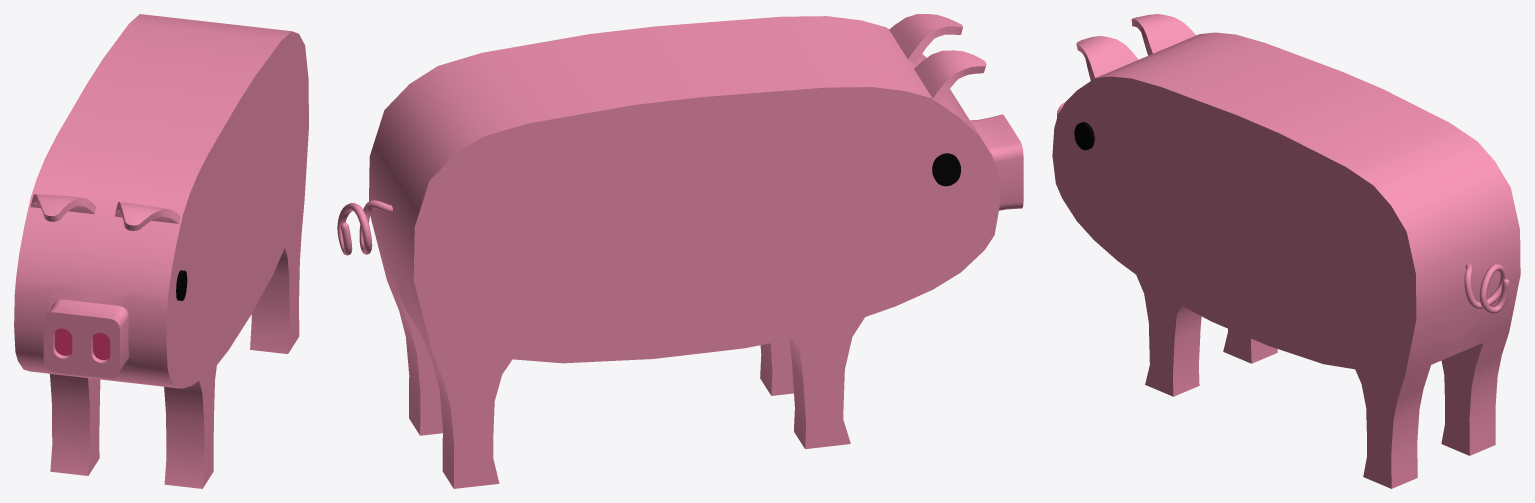
File: pig.glb
The picture shows the model from 3 angles, left to right: view 1: azimuth 30°, elevation 25°; view 2: azimuth 150°, elevation 25°; view 3: azimuth 270°, elevation 25°; orthographic projection. The views are drawn at different scales.
Parts seen in each view (by area): view 1: Plane.121, Cube.6232; view 2: Plane.121, Cube.6232, Plane.122, Circle.1896; view 3: Plane.121, Cube.6232, Plane.122.
Part boxes in pixels (box(x1,y1,x2,y2)): Plane.121: box(14, 14, 308, 488); Cube.6232: box(30, 194, 180, 230); Plane.121: box(369, 16, 1023, 488); Cube.6232: box(889, 14, 986, 103); Plane.122: box(337, 200, 392, 255); Circle.1896: box(932, 153, 960, 186); Plane.121: box(1052, 32, 1520, 488); Cube.6232: box(1076, 14, 1195, 80); Plane.122: box(1464, 263, 1509, 313).
Size of the model in its own units: 2.21 by 1.61 by 2.21.
Materials: 1 (1 with a texture image).
